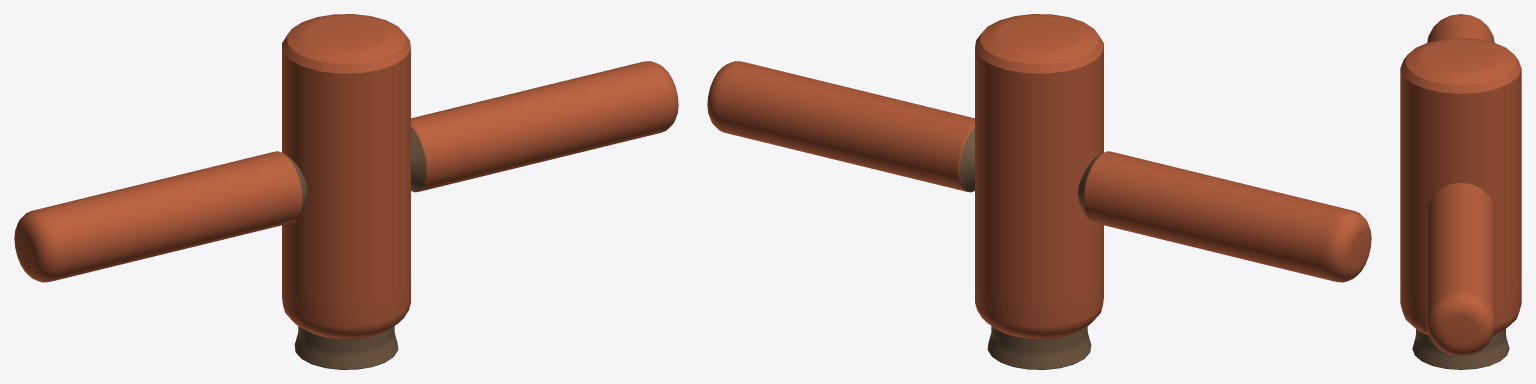
File: HitterModel.fbx
3 renders of one model, left to right at view 1: azimuth 30°, elevation 25°; view 2: azimuth 150°, elevation 25°; view 3: azimuth 270°, elevation 25°, orthographic. The views are drawn at different scales.
Parts seen in each view (by area): view 1: pCylinder1, pCylinder2; view 2: pCylinder1, pCylinder2; view 3: pCylinder1, pCylinder2.
Part boxes in pixels (left/top/right/bottom): pCylinder1: left=282, top=14, right=410, bottom=369; pCylinder2: left=14, top=61, right=678, bottom=282; pCylinder1: left=975, top=14, right=1103, bottom=369; pCylinder2: left=707, top=61, right=1371, bottom=282; pCylinder1: left=1400, top=38, right=1521, bottom=369; pCylinder2: left=1426, top=14, right=1495, bottom=356.
Size of the model in its own units: 650 by 306 by 114.
